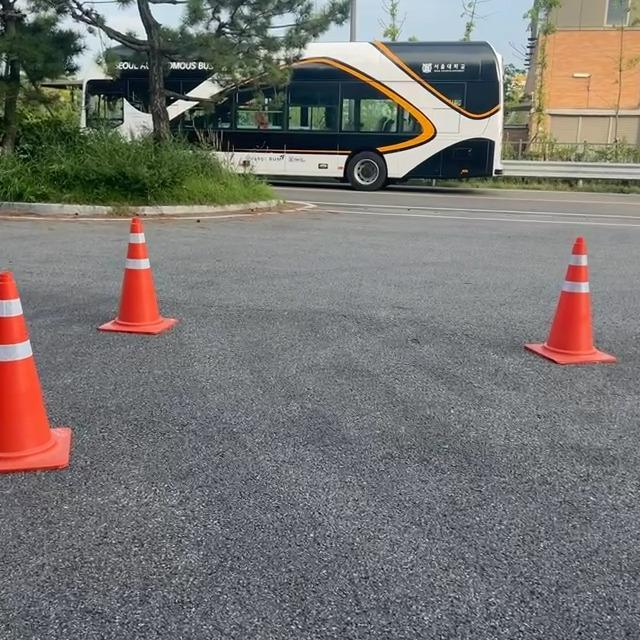fallen_object: (501, 180, 640, 457), (0, 224, 137, 493), (96, 193, 178, 337)
